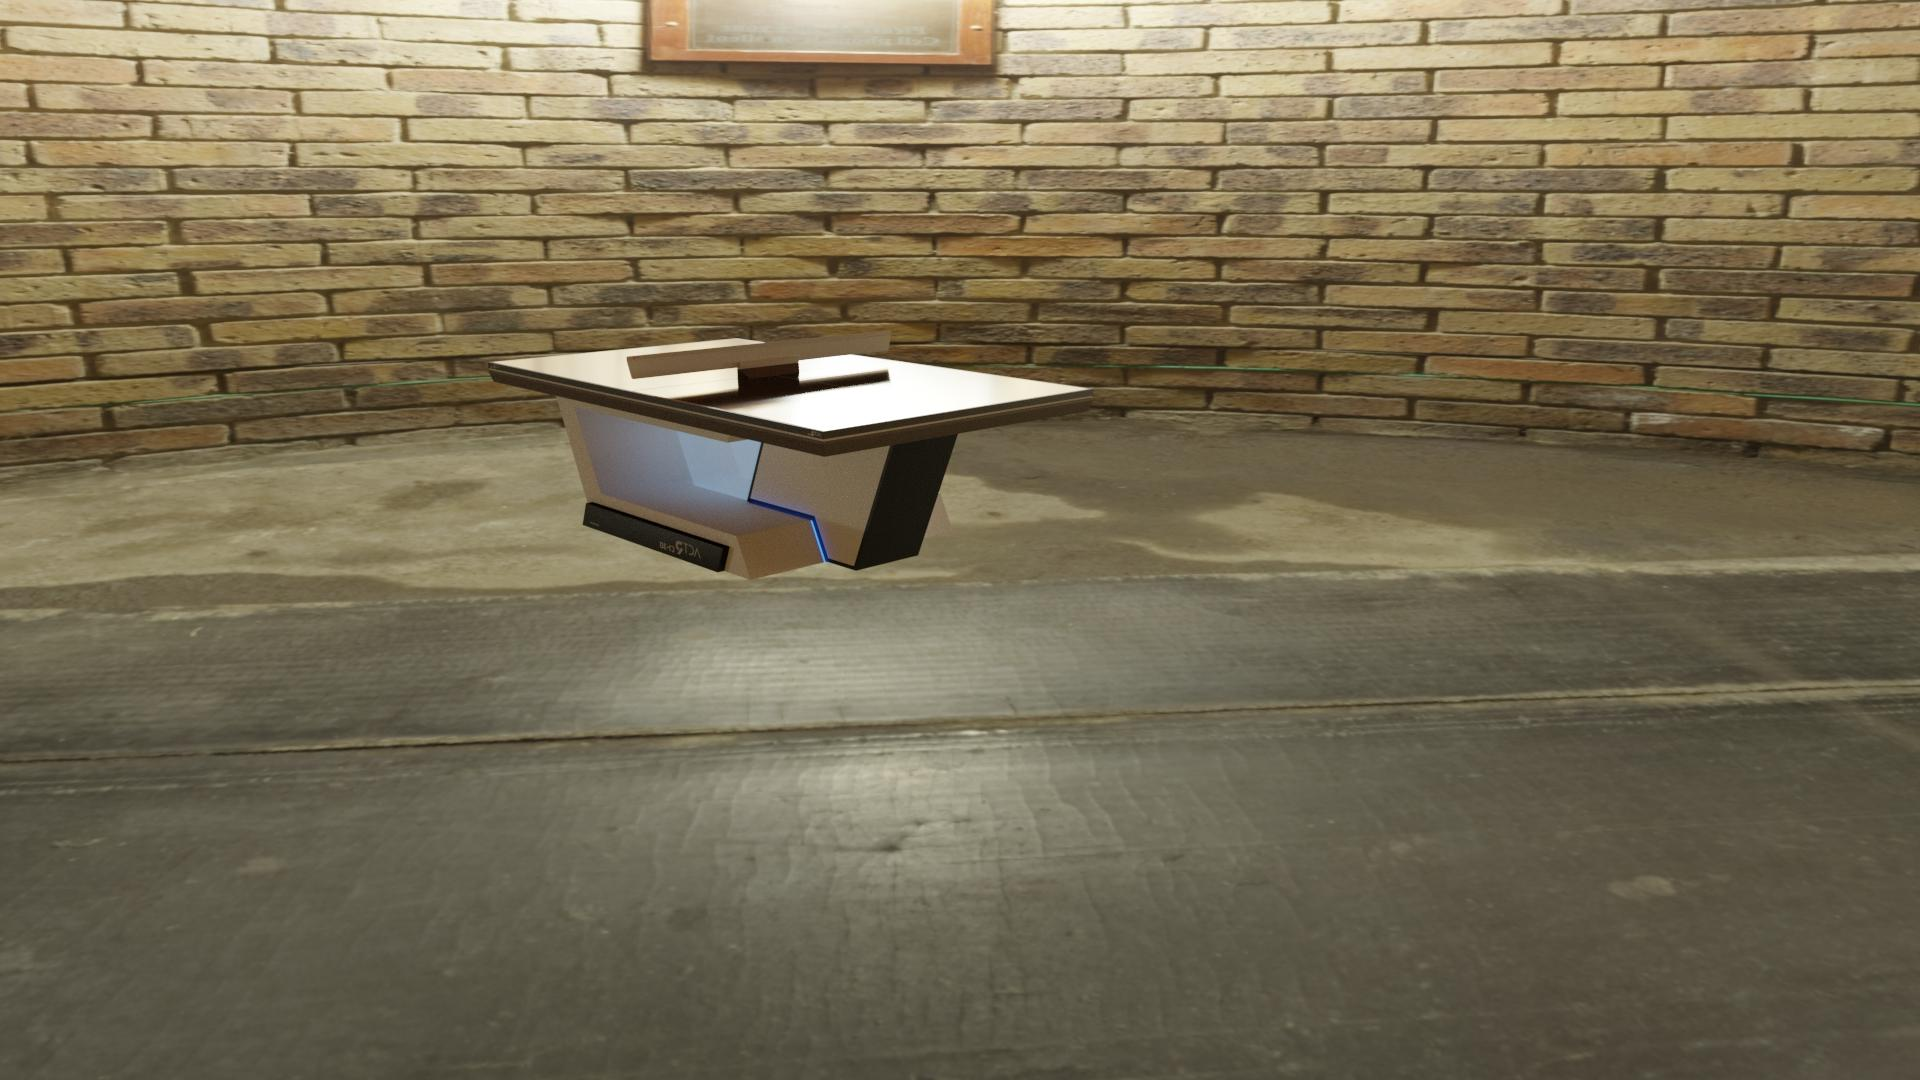table: (493, 339, 1088, 430)
